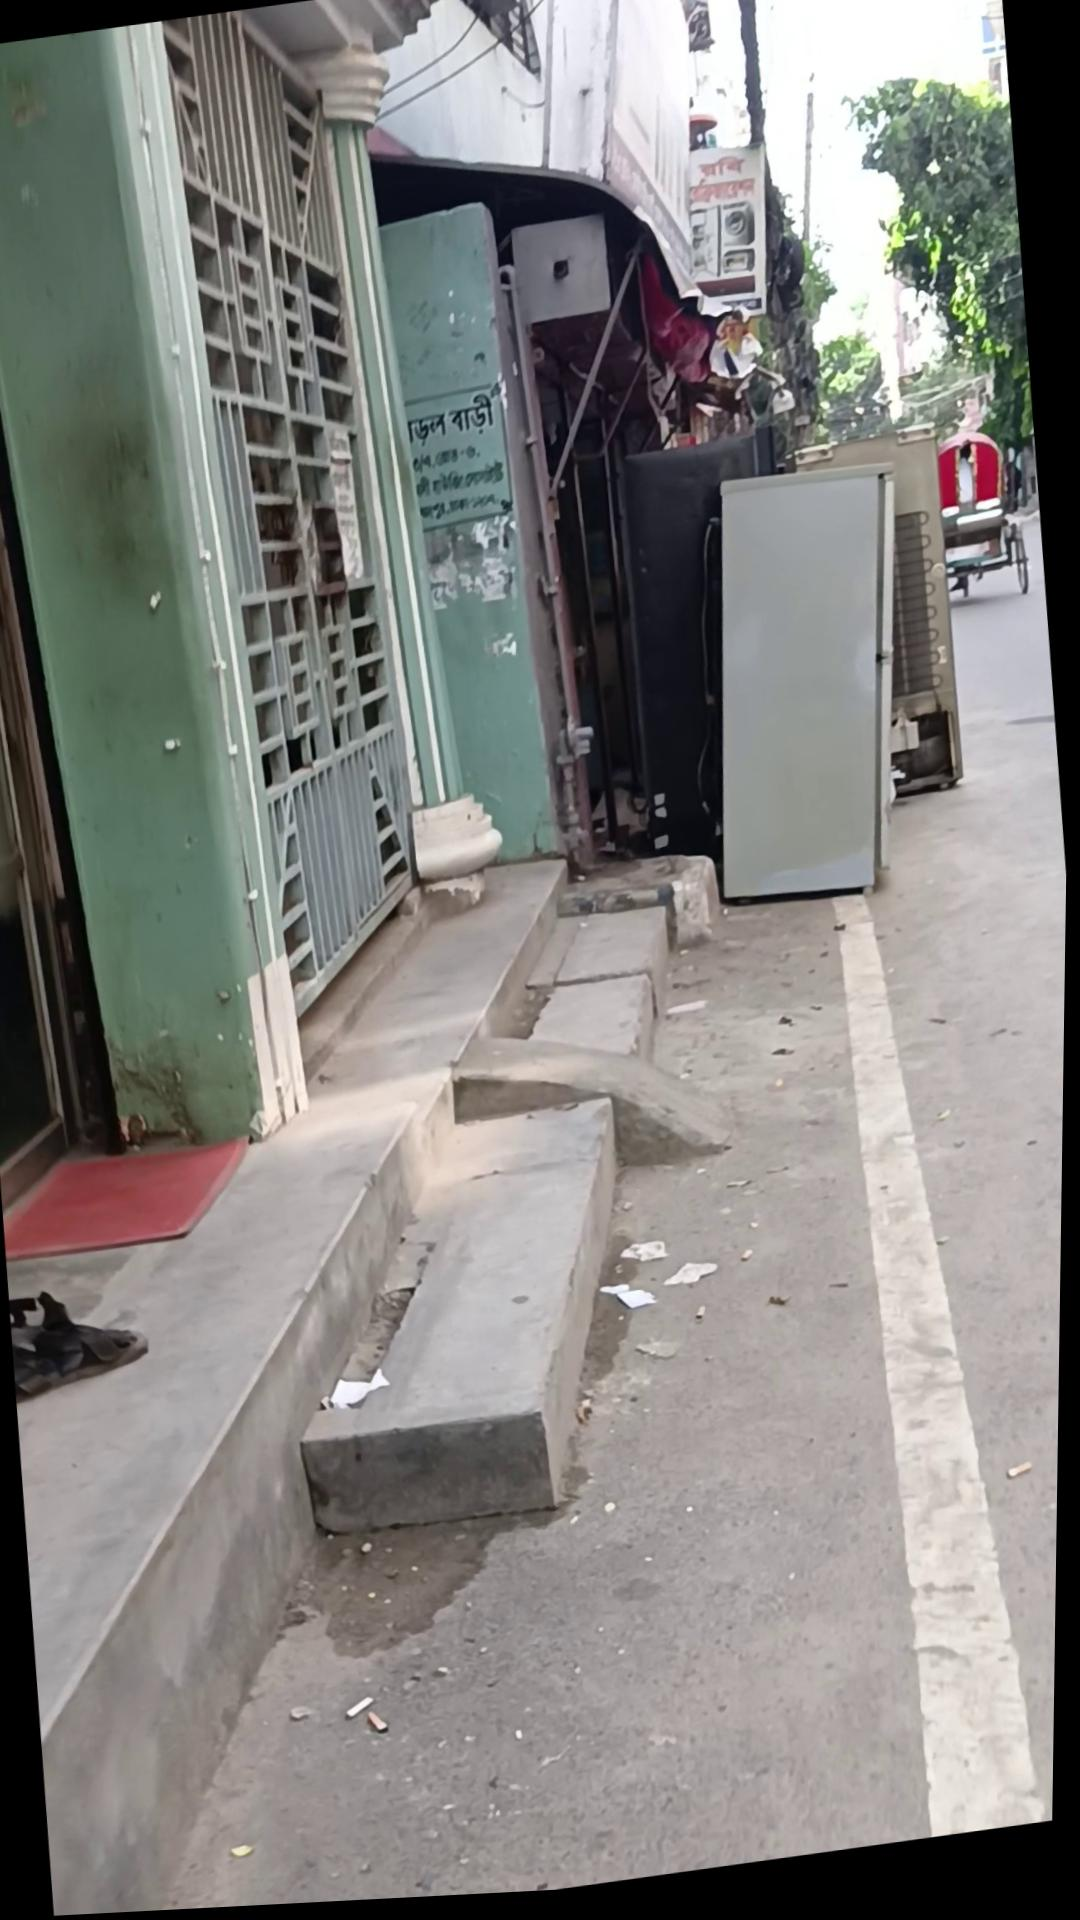Broken-road: (0, 862, 802, 1920), (274, 1087, 651, 1551)
Fence: (931, 433, 1034, 617)
Garbage: (0, 572, 973, 1920)
Light-pole: (833, 69, 1043, 535)
Obstacle: (364, 195, 575, 882)
